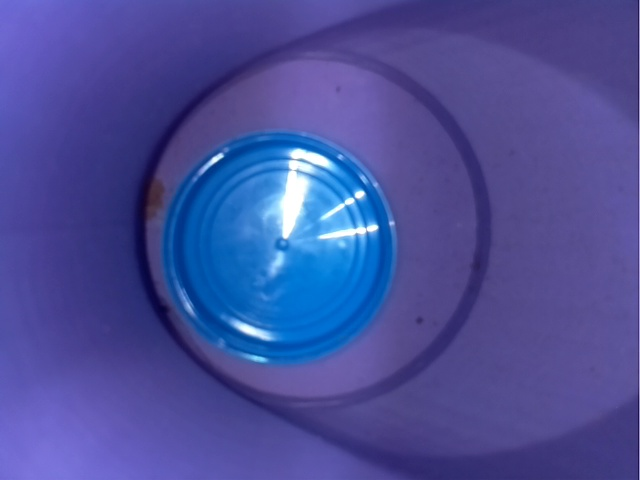bouchon: (158, 126, 409, 374)
